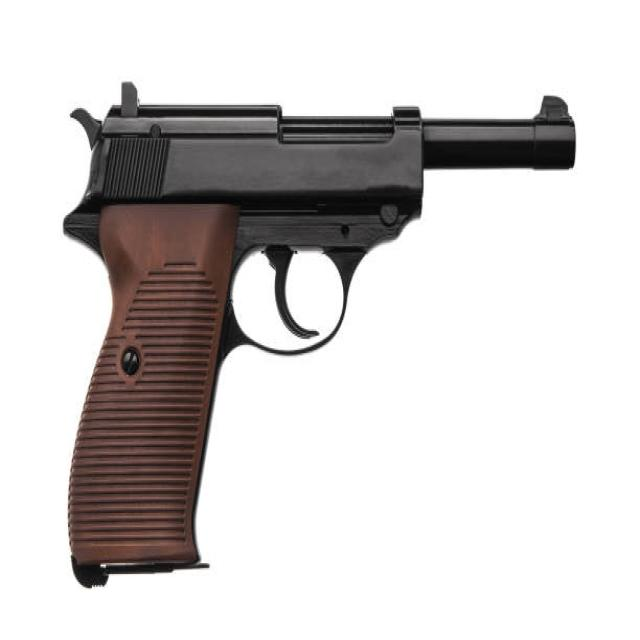pistol: (57, 76, 587, 600)
